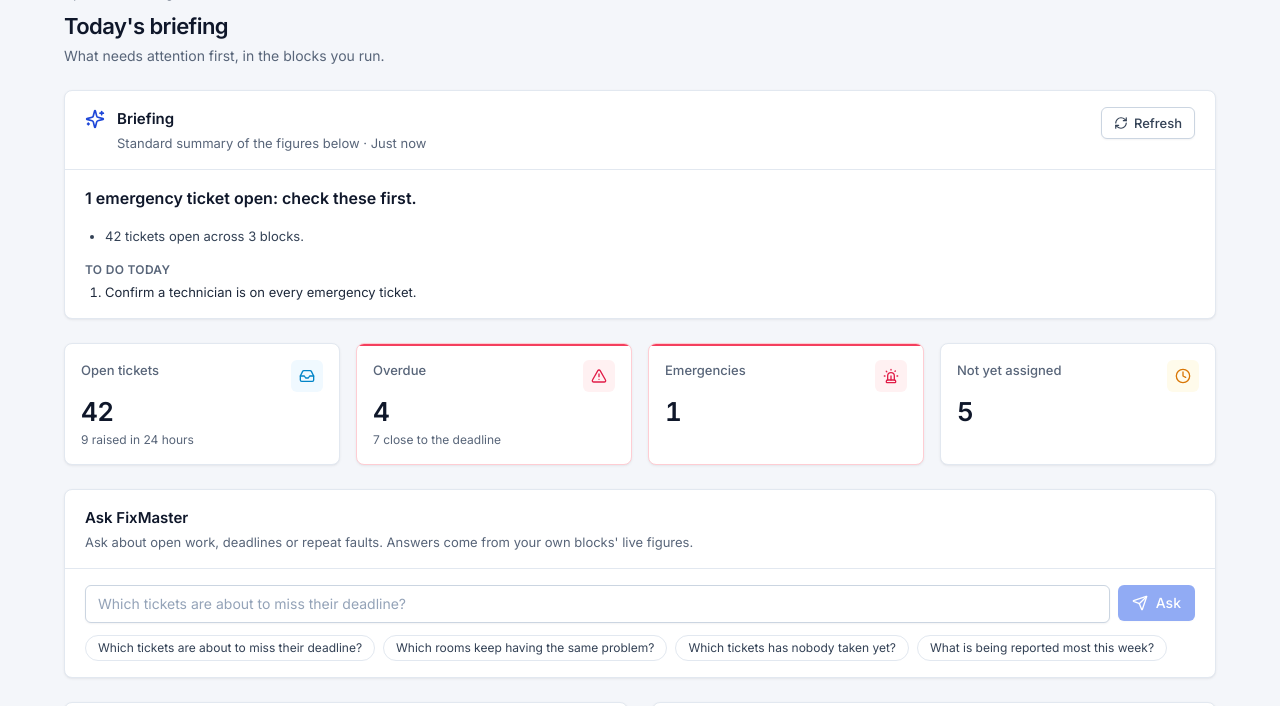
Scenario: InsightsPage › asks a question and shows the answer with the report it came from
In the field named "Your question": (597, 604) [85, 585, 1110, 623], type "what is overdue?"
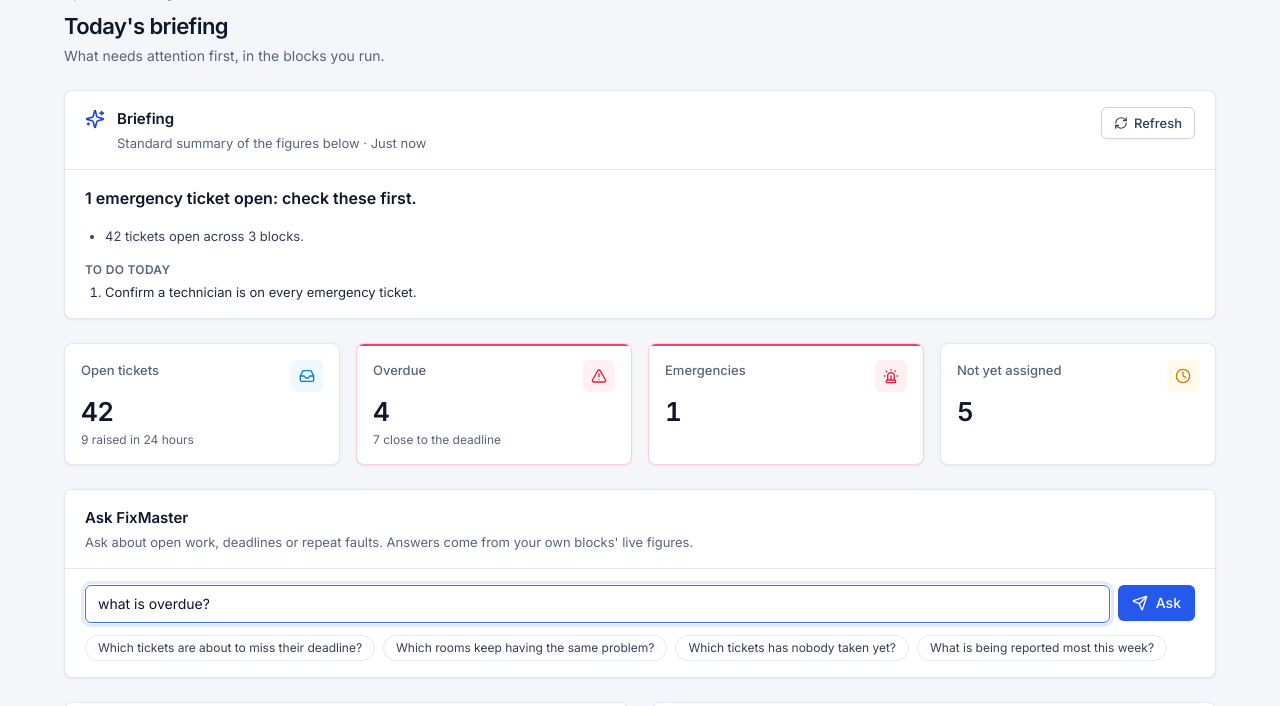
Click the button "Ask": (1156, 603) [1118, 585, 1195, 621]
(page scrolled)
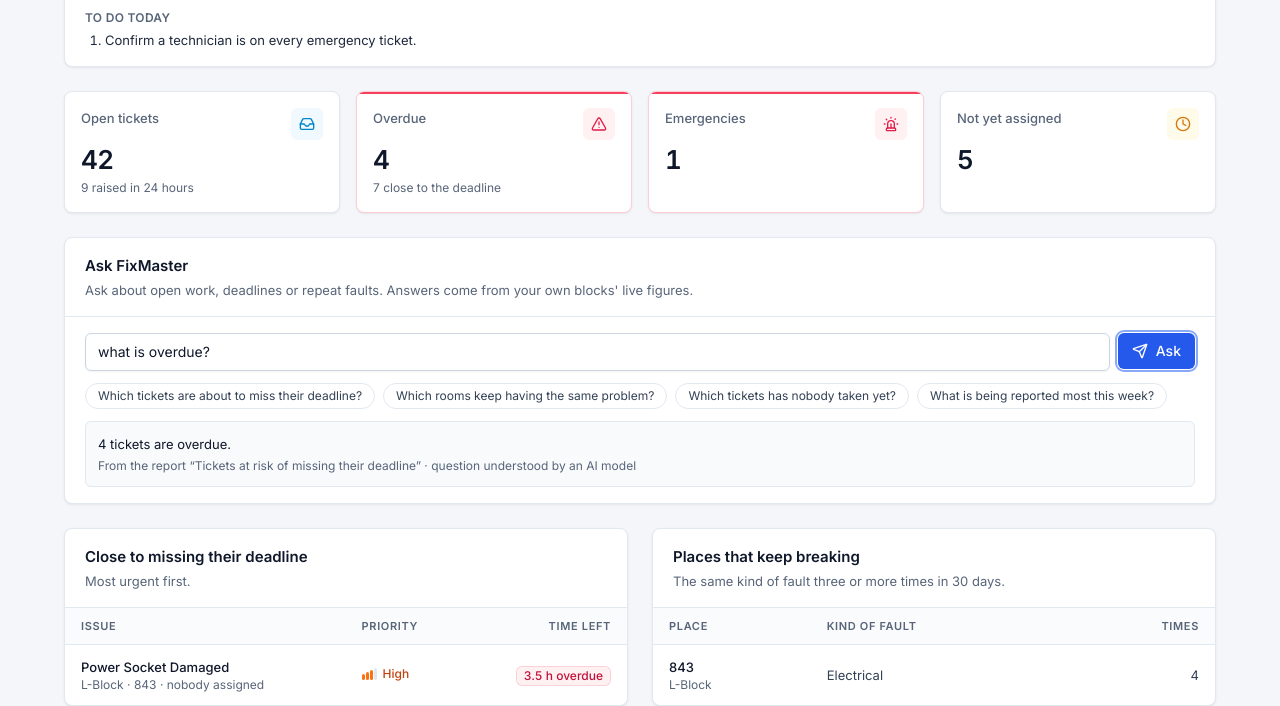
Now the text "4 tickets are overdue." is shown, box [98, 436, 231, 452]
Now the text "Tickets at risk of missing their deadline" is shown, box [195, 458, 416, 473]
Now the text "understood by an AI model" is shown, box [431, 458, 636, 473]
